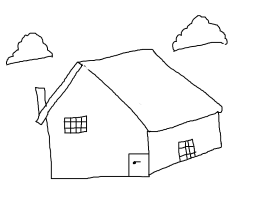chimney: (30, 76, 55, 114)
closed_window: (62, 115, 87, 133)
clouds: (171, 14, 228, 51), (5, 32, 54, 64)
door: (125, 150, 155, 181), (175, 134, 203, 166)
roof: (35, 48, 223, 131)
wall: (46, 58, 154, 182)
